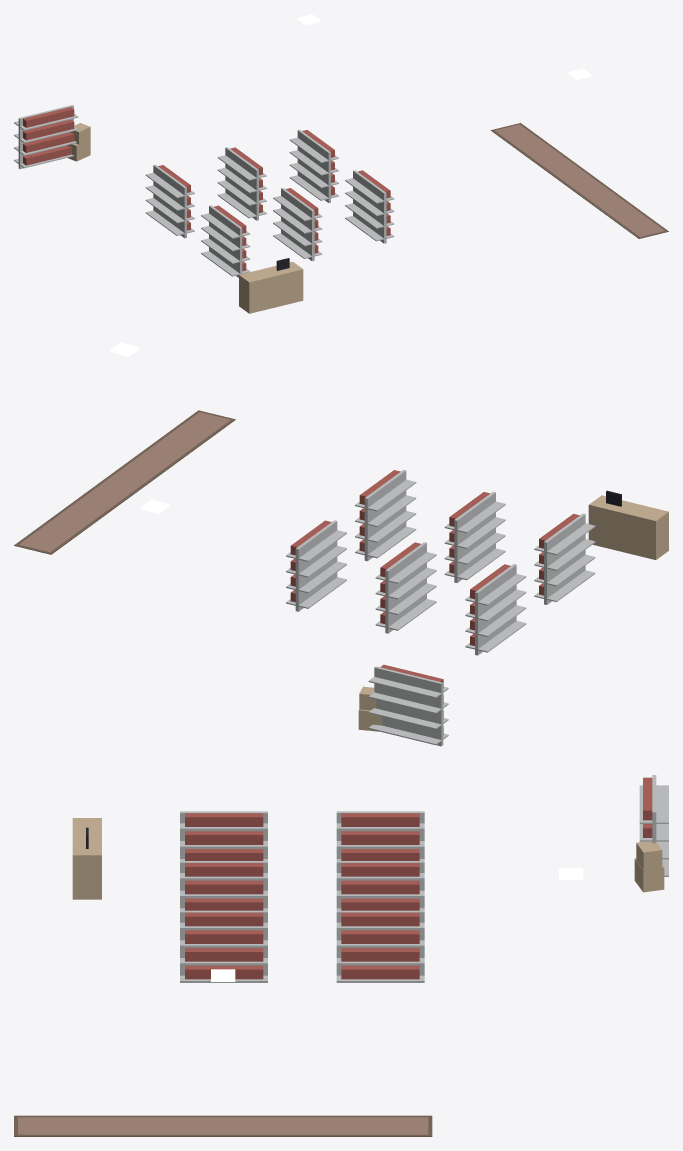
Rendered from fine-s0.glb.
3 renders of one model, top to bottom at view 1: azimuth 30°, elevation 25°; view 2: azimuth 150°, elevation 25°; view 3: azimuth 270°, elevation 25°, orthographic. The views are drawn at different scales.
Visible parts, largest first — view 1: soft-s0, shelving.000, shop-counter.000, shelf.005, shelf.003, shelf.002, shelf.000, shelf.004, shelf.001, cardboard-box.000; view 2: soft-s0, shelving.000, shop-counter.000, shelf.005, shelf.004, shelf.002, shelf.000, shelf.001, shelf.003, cardboard-box.000; view 3: soft-s0, shelf.004, shelf.005, shelf.000, shelf.002, shelf.001, shelf.003, shop-counter.000, shelving.000, cardboard-box.000.
Part boxes in pixels (x1,y1,x2,y2): soft-s0: (490,123,668,238); shelving.000: (14,105,78,169); shop-counter.000: (239,258,303,313); shelf.005: (345,170,394,243); shelf.003: (273,188,322,261); shelf.002: (217,147,266,220); shelf.000: (145,164,194,238); shelf.004: (289,129,338,202); shelf.001: (201,205,250,277); cardboard-box.000: (67,123,90,161); soft-s0: (14,410,235,554); shelving.000: (368,664,448,746); shop-counter.000: (588,490,668,559); shelf.005: (355,469,416,561); shelf.004: (286,520,346,611); shelf.002: (375,542,436,633); shelf.000: (465,564,526,655); shelf.001: (534,513,595,604); shelf.003: (444,491,505,582); cardboard-box.000: (358,686,381,731); soft-s0: (14,1115,432,1136); shelf.004: (336,910,424,982); shelf.005: (180,910,267,982); shelf.000: (336,811,424,860); shelf.002: (336,861,424,910); shelf.001: (180,811,267,860); shelf.003: (180,861,267,910); shop-counter.000: (72,818,101,899); shelving.000: (639,775,668,876); cardboard-box.000: (634,841,664,892).
Bounding box in the file's own units: 14.09 × 3.43 × 13.4.
